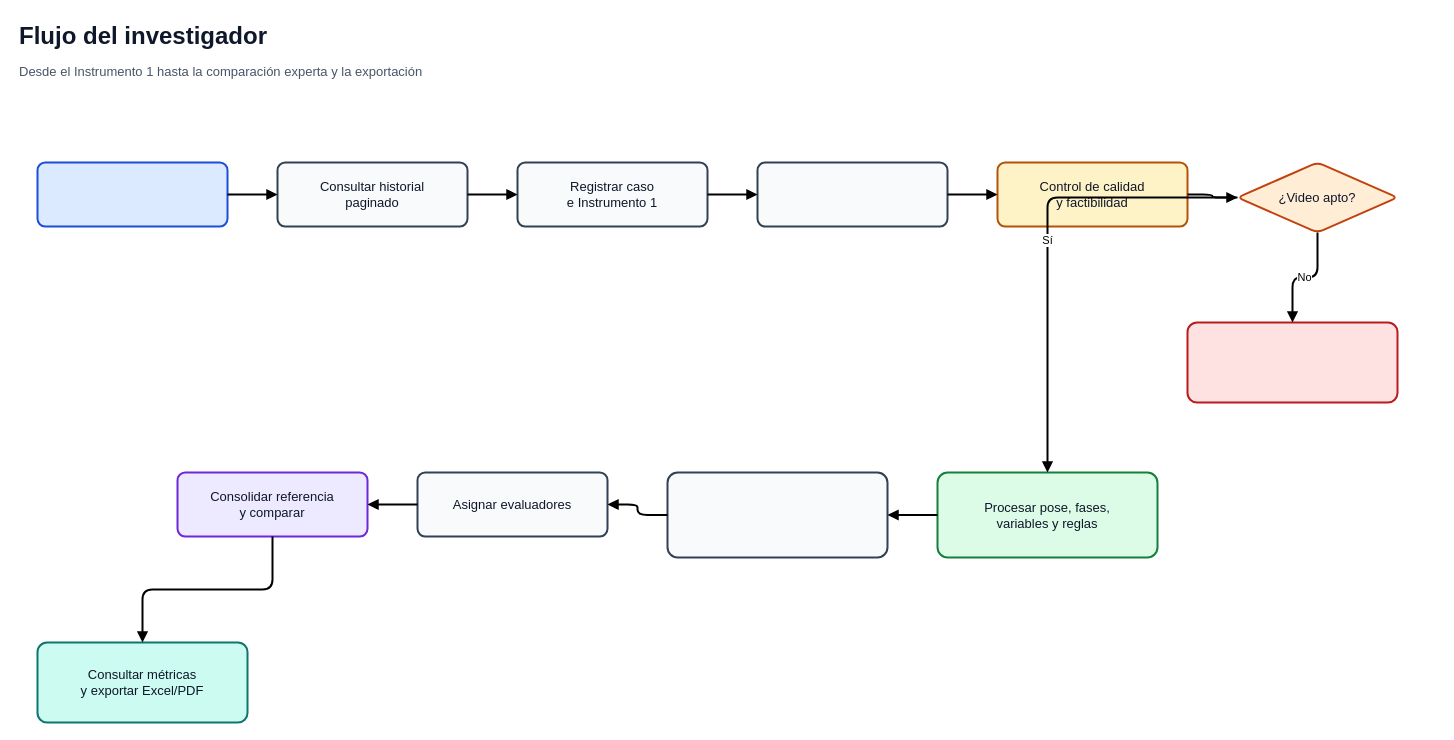
The diagram is 1454 pixels wide and 740 high, and some of its shapes have lost their labels. The centre of each missing label's shape, as x and y in pixels:
Cargar video: pixel 852 194
Iniciar sesión como investigador: pixel 132 194
Registrar motivo y solicitar nueva captura: pixel 1292 362
Revisar overlay, capturas e Instrumento 2: pixel 777 514
